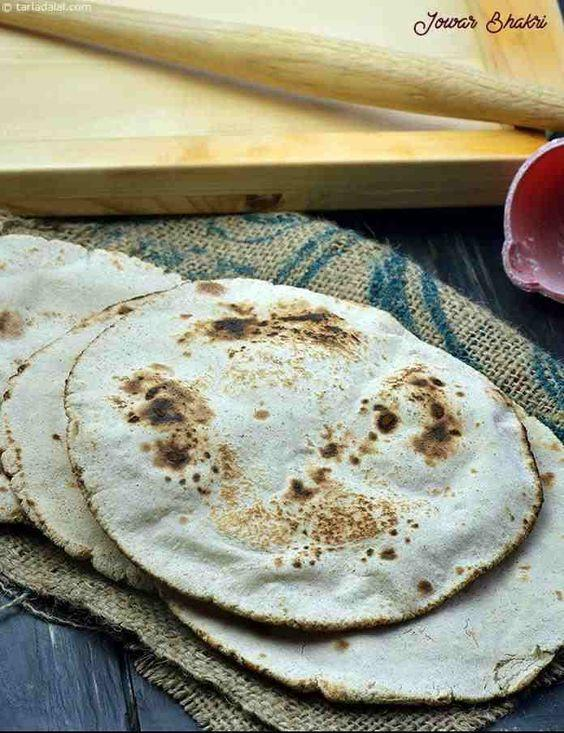roti phulka: (2, 237, 501, 705)
